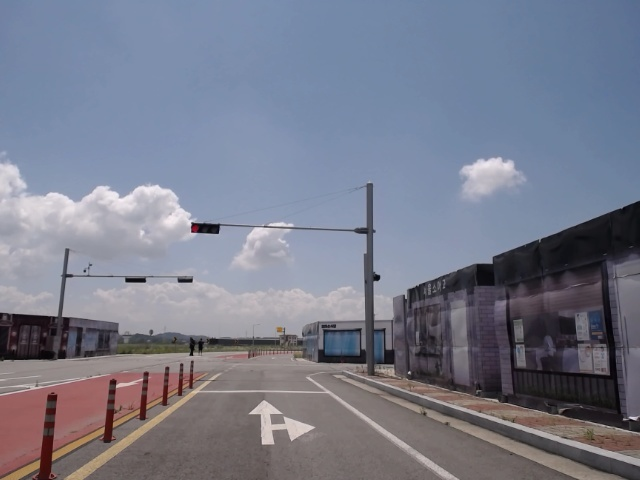red_3: (189, 222, 220, 236)
